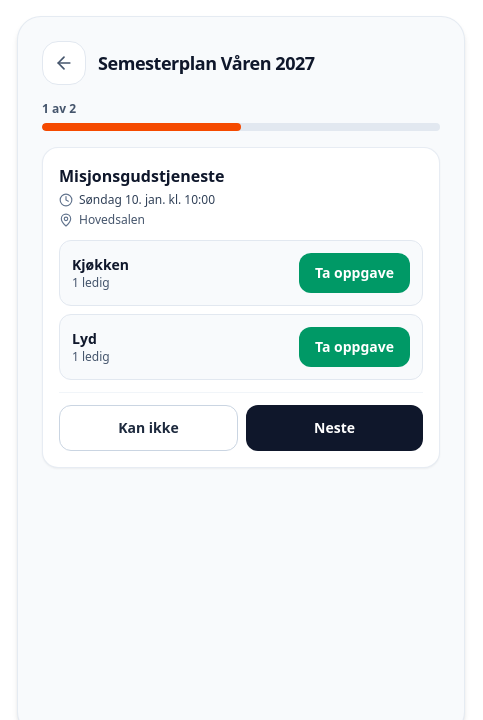
Test: Semesterplanen på Min side › Kan ikke gjelder hele arrangementet, og neste kort kommer
The width and height of the screenshot is (483, 720).
What coordinates should you click on to do the following:
click the button "Kan ikke"
I would click on:
 (148, 428)
Its box is [59,405,238,451].
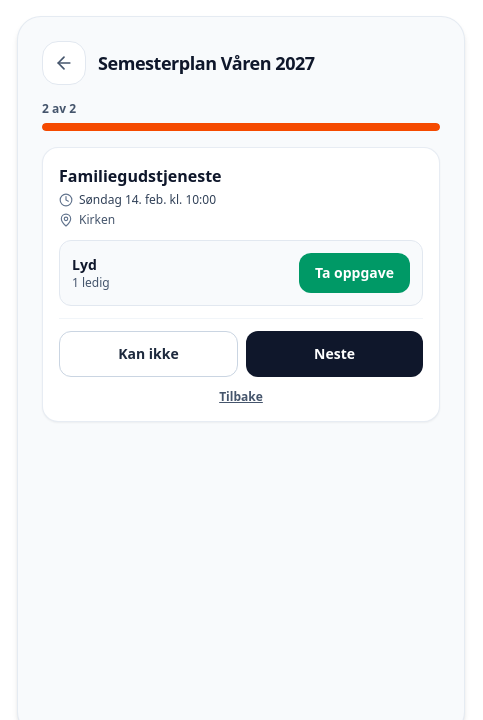
Now the text "2 av 2" is shown, box [42,100,76,117]
Now the button "Tilbake" is shown, box [219,389,263,405]
